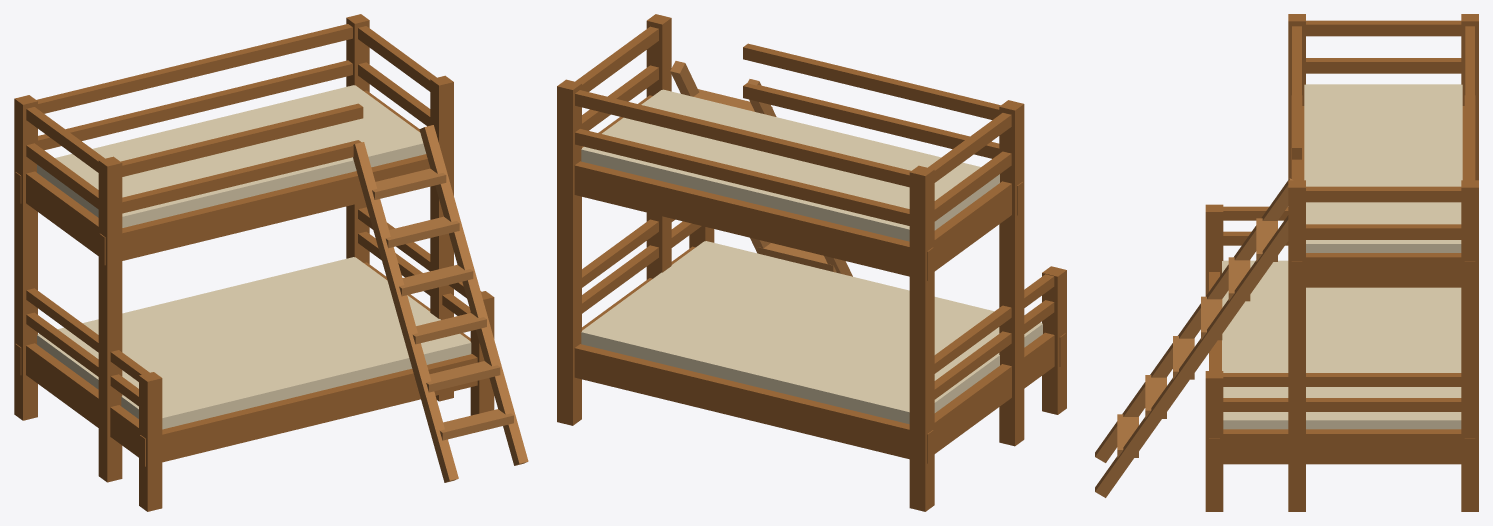
File: bunk-bed-v2.glb
3 renders of one model, left to right at view 1: azimuth 30°, elevation 25°; view 2: azimuth 150°, elevation 25°; view 3: azimuth 270°, elevation 25°, orthographic. The views are drawn at different scales.
Visible parts, largest first — view 1: bunk-bed-side-inclined-ladder; view 2: bunk-bed-side-inclined-ladder; view 3: bunk-bed-side-inclined-ladder.
Part boxes in pixels (left/top/right/bottom): bunk-bed-side-inclined-ladder: left=14, top=14, right=528, bottom=511; bunk-bed-side-inclined-ladder: left=557, top=14, right=1066, bottom=511; bunk-bed-side-inclined-ladder: left=1095, top=14, right=1478, bottom=511.
Bounding box in the file's own units: 2.1 × 1.82 × 1.95.
